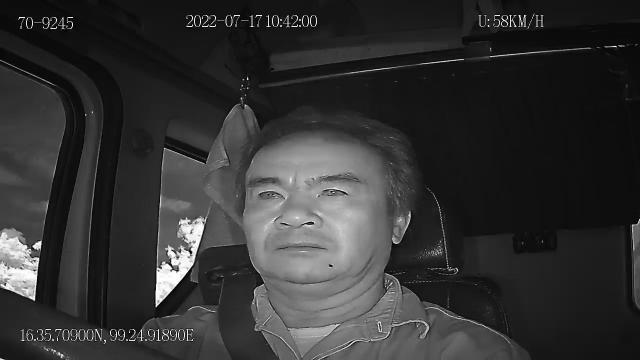SafeDriving: (311, 178, 359, 204), (248, 178, 290, 207)
Seatbelt: (216, 272, 282, 360)
